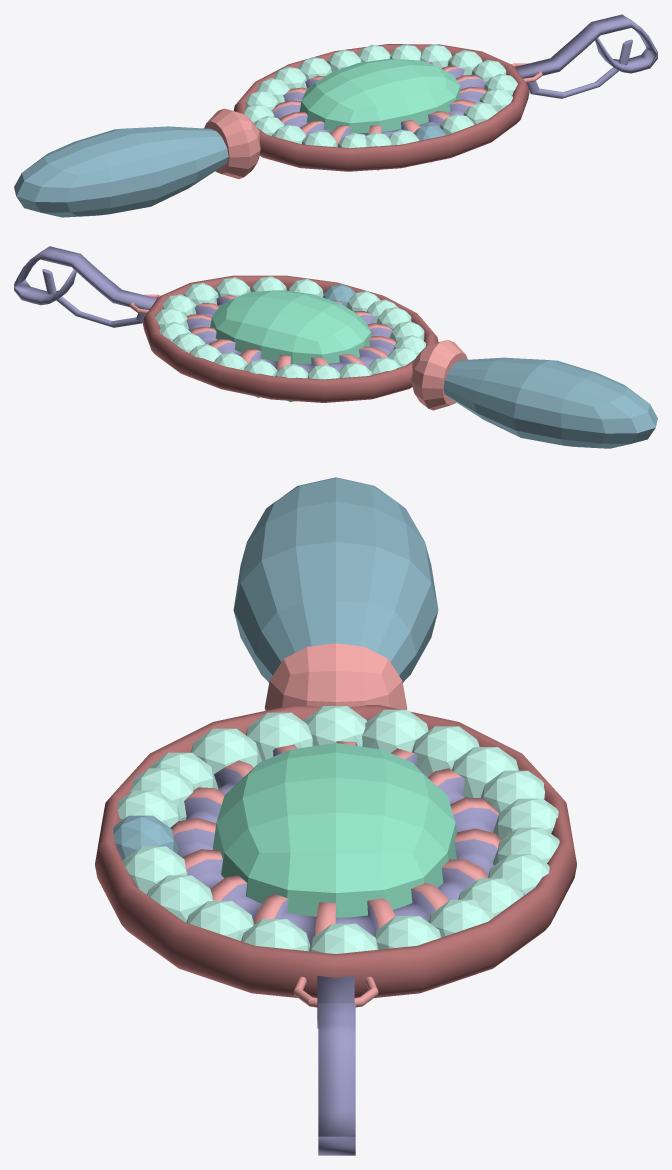
Rendered from item_earring.fbx.
3 renders of one model, top to bottom at view 1: azimuth 30°, elevation 25°; view 2: azimuth 150°, elevation 25°; view 3: azimuth 270°, elevation 25°, orthographic. The views are drawn at different scales.
Visible parts, largest first — view 1: Earring; view 2: Earring; view 3: Earring.
Boxes of the visible parts, x1=… form: Earring: x1=14, y1=14, x2=657, y2=217; Earring: x1=14, y1=246, x2=657, y2=448; Earring: x1=95, y1=477, x2=576, y2=1155.
Bounding box in the file's own units: 1493 × 161 × 490.
